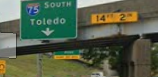1: (94, 14, 100, 22)
2: (118, 12, 126, 23)
4: (99, 13, 107, 24)
overheadsign: (91, 12, 138, 23)
